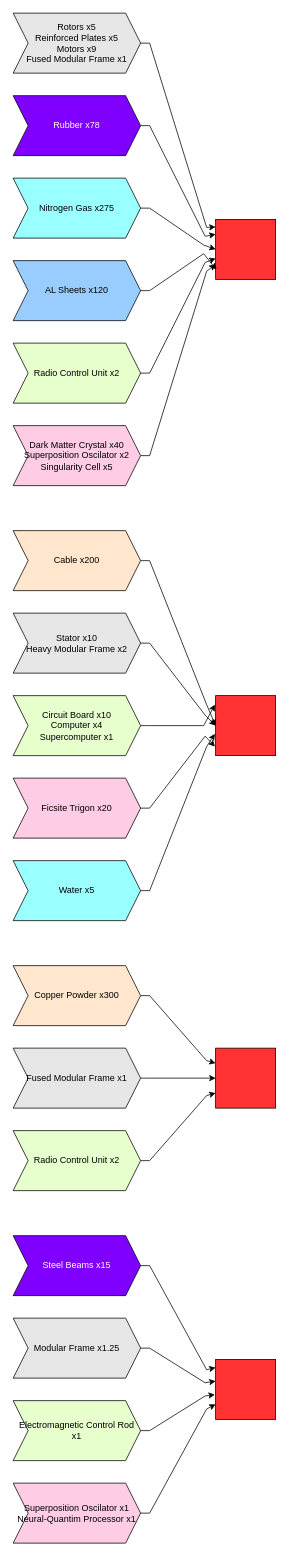
The diagram is 289 pixels wide and 1556 high, and some of its shapes have lost their labels. Here are the shapes that lost their labels. From the top down, the box of each, then its label:
(215, 219, 276, 279): Ballistic Warp Drive x1
(215, 695, 276, 756): Biochemical Sculptor x1
(215, 1047, 276, 1108): Nuclear Pasta x1
(215, 1359, 276, 1419): AI Expansion Server x1
